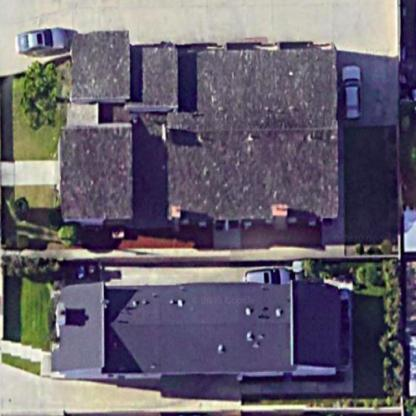car: (333, 59, 365, 123), (11, 25, 75, 54), (243, 263, 297, 291)
